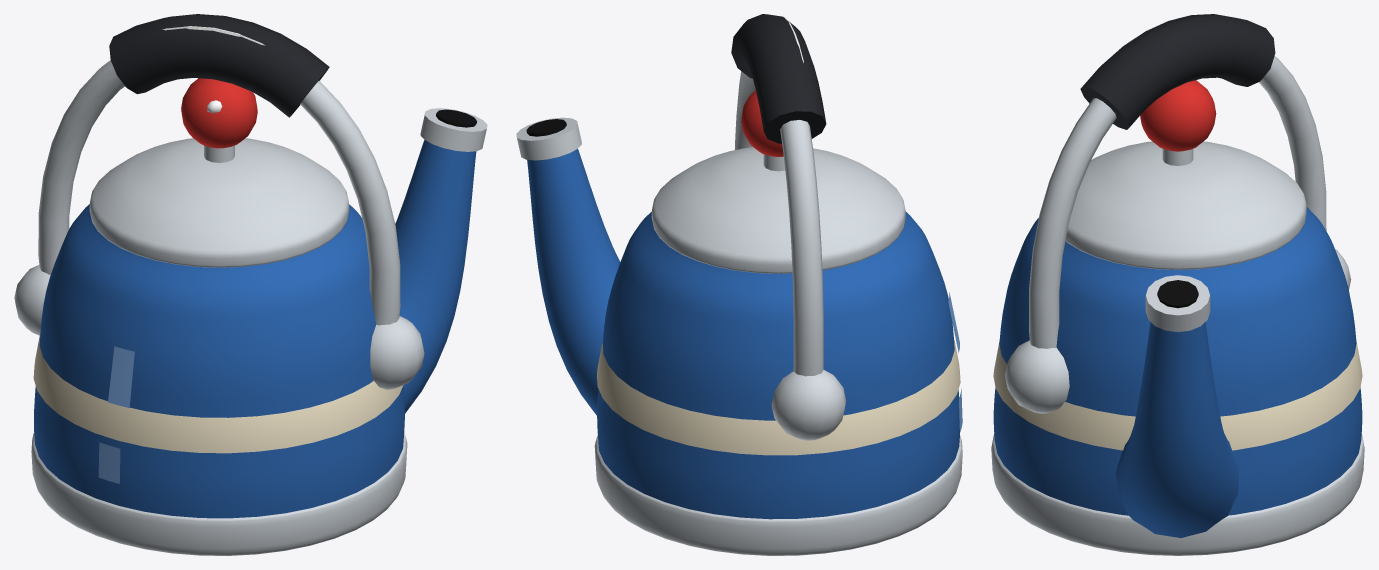
Rendered from kettle.glb.
3 views of the same model, side by side, from view 1: azimuth 30°, elevation 25°; view 2: azimuth 150°, elevation 25°; view 3: azimuth 270°, elevation 25° (orthographic). The views are drawn at different scales.
Visible parts, largest first — view 1: Kettle; view 2: Kettle; view 3: Kettle.
Boxes of the visible parts, bbox=[...] form: Kettle: bbox=[14, 14, 487, 555]; Kettle: bbox=[516, 14, 962, 555]; Kettle: bbox=[991, 14, 1364, 555].
Bounding box in the file's own units: 6.39 × 6.59 × 4.88.
